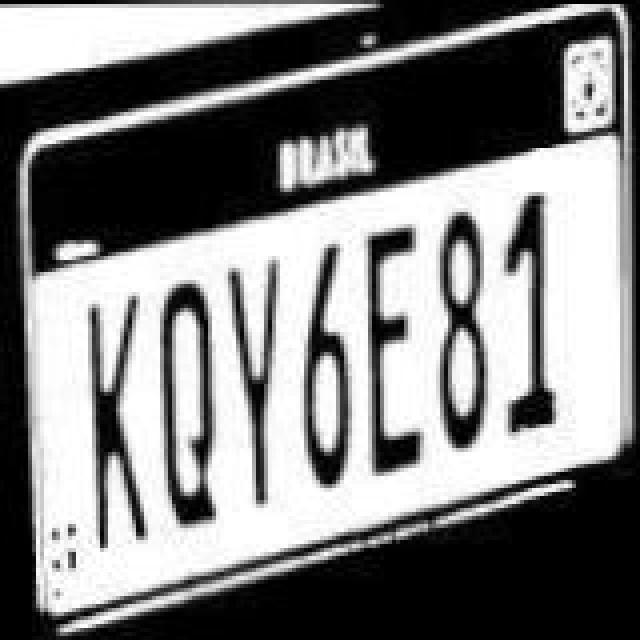1: (494, 186, 566, 438)
6: (292, 238, 360, 494)
8: (432, 204, 492, 452)
E: (360, 220, 428, 476)
K: (86, 290, 154, 550)
Q: (152, 278, 224, 530)
Y: (226, 256, 286, 512)
